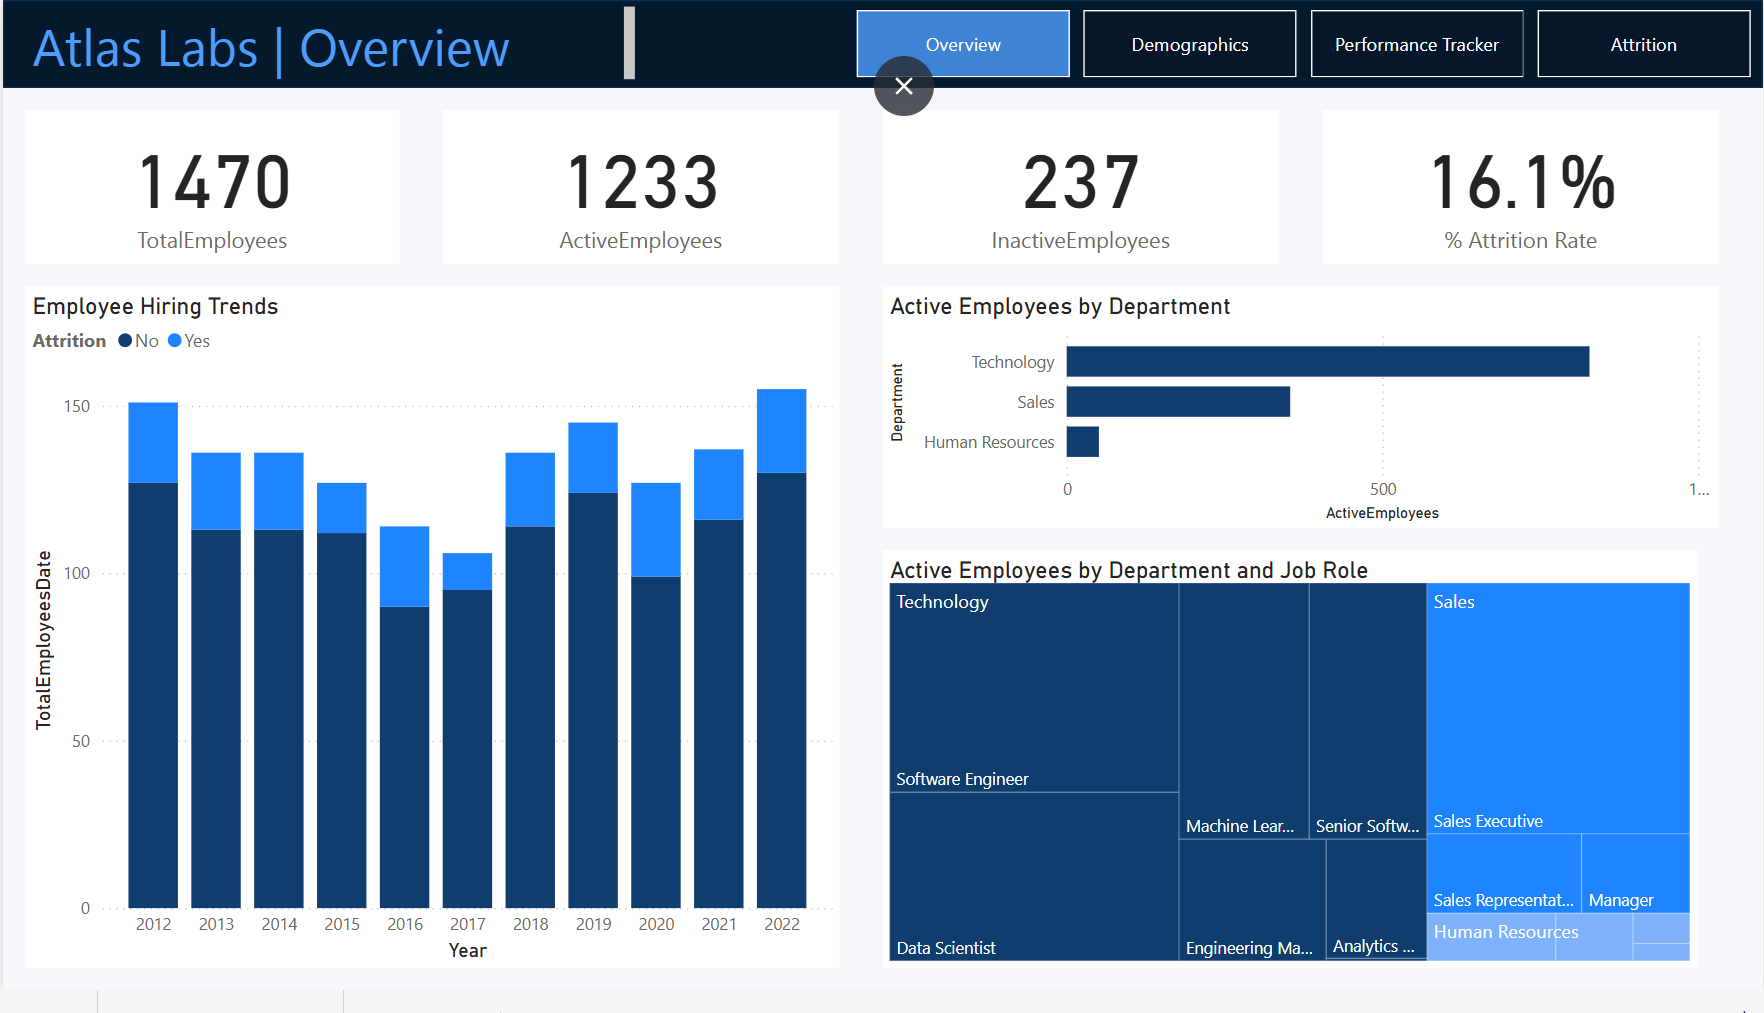

The dashboard page shown, as its layout file describes it:
{"tool":"powerbi","page":{"name":"Overview","canvas":[1280,720],"ordinal":0},"visuals":[{"type":"card","fields":{"Values":["_Measures.TotalEmployees"]},"box":[16,80,272,112],"z":0},{"type":"card","fields":{"Values":["_Measures.ActiveEmployees"]},"box":[320,80,288,112],"z":1000},{"type":"card","fields":{"Values":["_Measures.InactiveEmployees"]},"box":[640,80,288,112],"z":2000},{"type":"card","fields":{"Values":["_Measures.% Attrition Rate"]},"box":[960,80,288,112],"z":3000},{"type":"columnChart","title":"Employee Hiring Trends","fields":{"Category":["DimDate.Date.Variation.Date Hierarchy.Year","DimDate.Date.Variation.Date Hierarchy.Quarter","DimDate.Date.Variation.Date Hierarchy.Month","DimDate.Date.Variation.Date Hierarchy.Day"],"Y":["_Measures.TotalEmployeesDate"],"Series":["DimEmployee.Attrition"]},"box":[16,208,592,496],"z":4000},{"type":"clusteredBarChart","title":"Active Employees by Department","fields":{"Category":["DimEmployee.Department"],"Y":["_Measures.ActiveEmployees"]},"box":[640,208,608,176],"z":5000},{"type":"treemap","title":"Active Employees by Department and Job Role","fields":{"Values":["_Measures.ActiveEmployees"],"Group":["DimEmployee.Department"],"Details":["DimEmployee.JobRole"]},"box":[640,400,592,304],"z":6000},{"type":"shape","box":[0,0,1280,64],"z":7000},{"type":"textbox","box":[16,0,448,64],"z":8000},{"type":"pageNavigator","box":[621.3,7.2,652.7,49.5],"z":9000}]}

Visuals, with their boxes in screenshot pixels (x1, y1, x2, y2), scaled from the page's 1280x720 canvas onto the 1764x1013 screenshot:
card - _Measures.TotalEmployees: (22,113,397,270)
card - _Measures.ActiveEmployees: (441,113,838,270)
card - _Measures.InactiveEmployees: (882,113,1279,270)
card - _Measures.% Attrition Rate: (1323,113,1720,270)
"Employee Hiring Trends" columnChart: (22,293,838,990)
"Active Employees by Department" clusteredBarChart: (882,293,1720,540)
"Active Employees by Department and Job Role" treemap: (882,563,1698,990)
shape: (0,0,1763,90)
textbox: (22,0,639,90)
pageNavigator: (856,10,1756,80)
